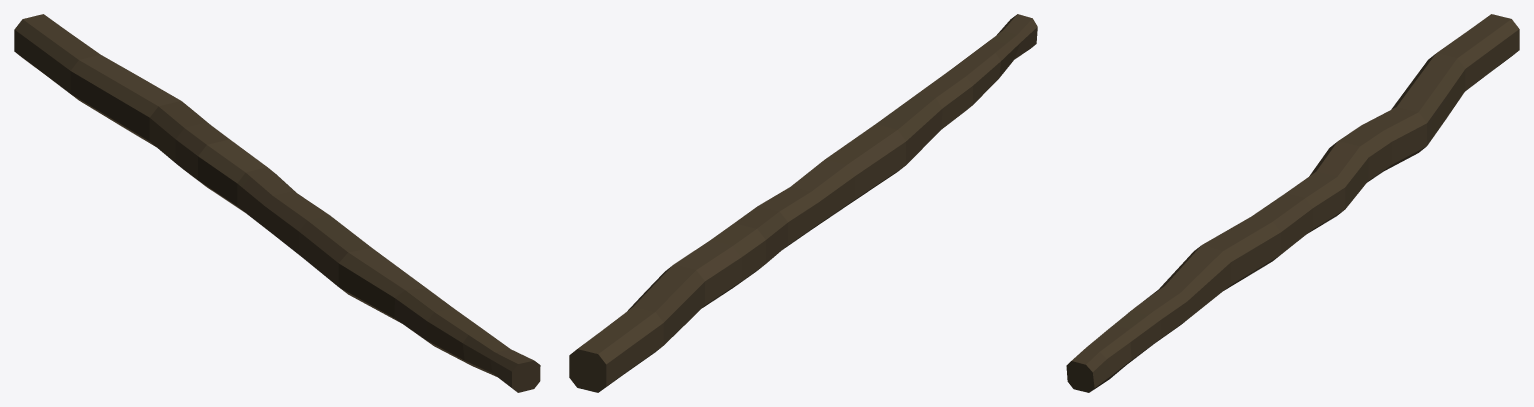
Rendered from PineStick.fbx.
3 renders of one model, left to right at view 1: azimuth 30°, elevation 25°; view 2: azimuth 150°, elevation 25°; view 3: azimuth 330°, elevation 25°, orthographic. The views are drawn at different scales.
Visible parts, largest first — view 1: Cube; view 2: Cube; view 3: Cube.
Part boxes in pixels (x1,y1,x2,y2): Cube: (14,14,540,392); Cube: (569,14,1037,392); Cube: (1066,14,1519,392).
Bounding box in the file's own units: 34.11 × 27.44 × 444.
